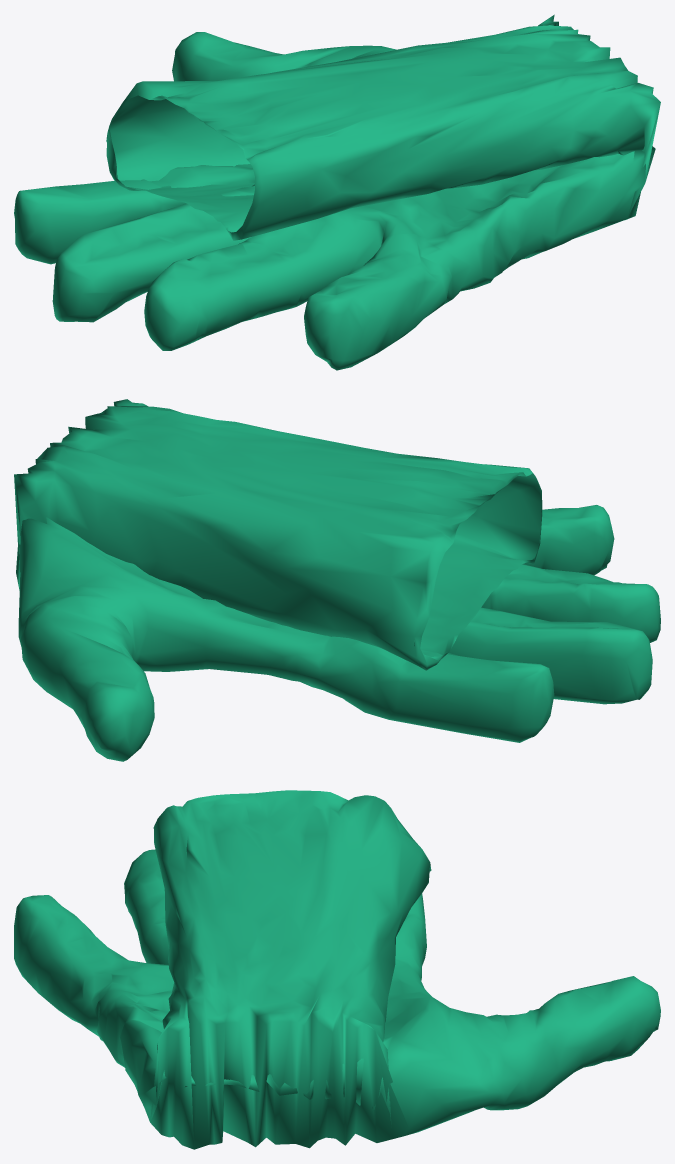
Rendered from Gloves.fbx.
The picture shows the model from 3 angles, top to bottom: view 1: azimuth 30°, elevation 25°; view 2: azimuth 150°, elevation 25°; view 3: azimuth 270°, elevation 25°; orthographic projection. The views are drawn at different scales.
Parts seen in each view (by area): view 1: Object_4; view 2: Object_4; view 3: Object_4.
Boxes of the visible parts, x1=… form: Object_4: x1=14, y1=14, x2=660, y2=370; Object_4: x1=14, y1=399, x2=660, y2=761; Object_4: x1=14, y1=790, x2=660, y2=1149.
Size of the model in its own units: 683 by 203 by 682.
